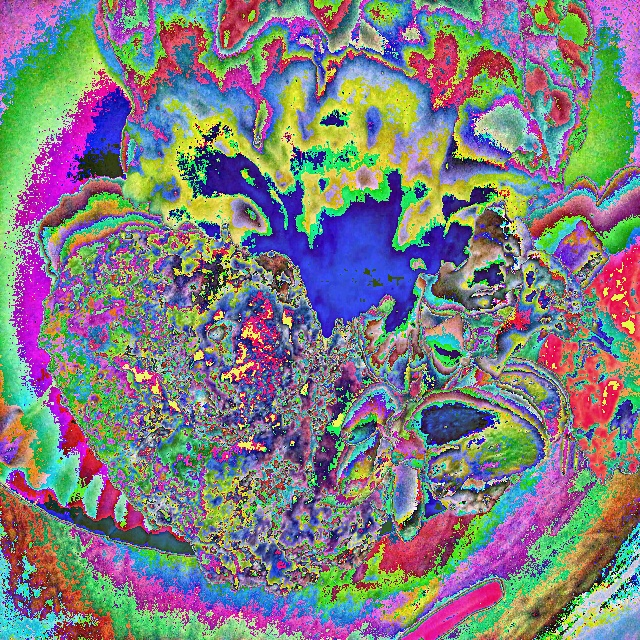background: (39, 0, 639, 599)
